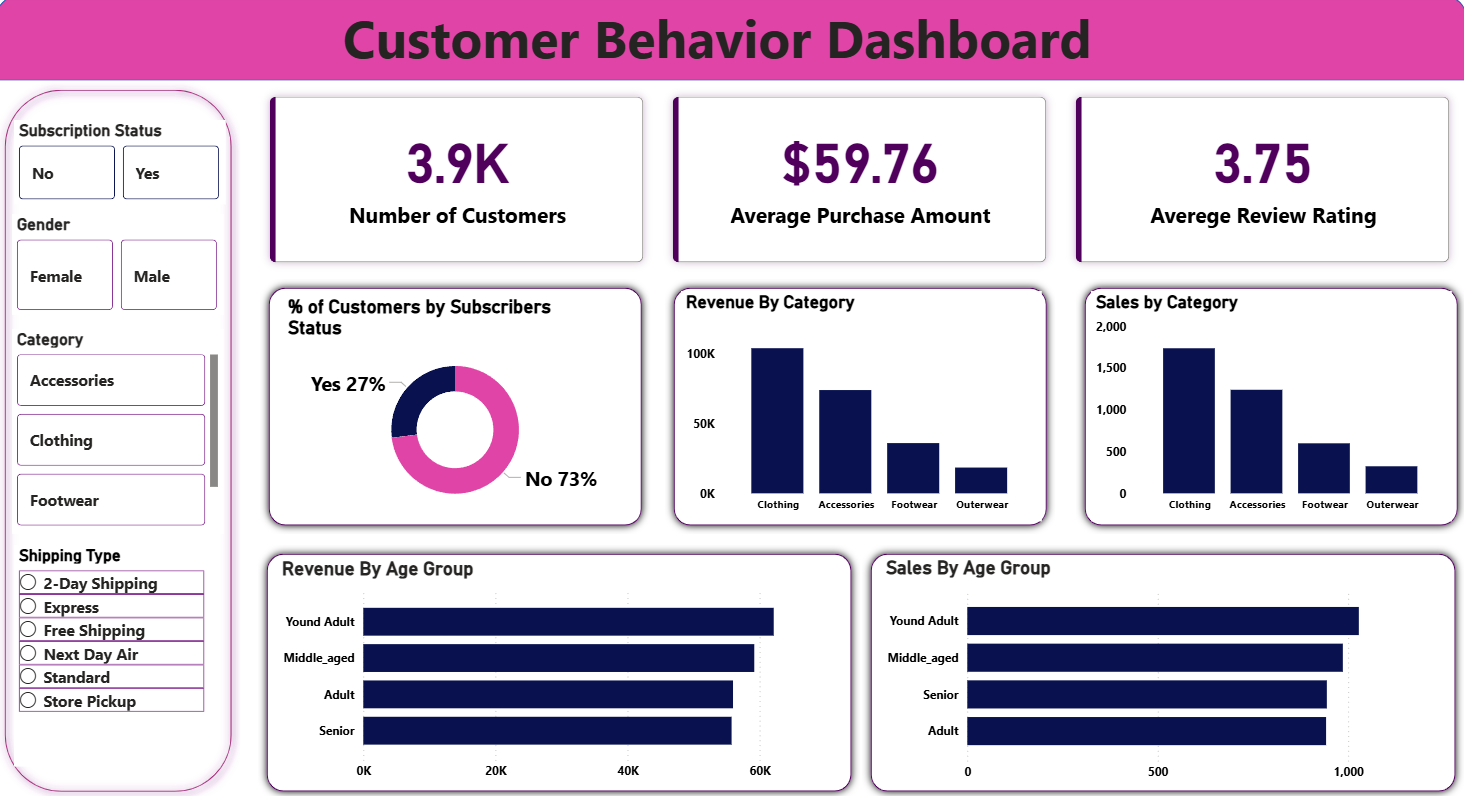

Layout of this report page (visuals, bound fields, positions):
{"tool":"powerbi","page":{"name":"Page 1","canvas":[1500,820],"ordinal":0},"visuals":[{"type":"cardVisual","fields":{"Data":["customer_db customers_cleaned.Number of Customers","customer_db customers_cleaned.Average Purchase Amount","customer_db customers_cleaned.Averege Review Rating"]},"box":[263.2,86.3,1236.7,201.9],"z":0},{"type":"shape","box":[0,0,1499.9,86.3],"z":1000},{"type":"textbox","box":[268.8,0,933.1,86.3],"z":2000},{"type":"shape","box":[268.8,288.3,398.3,260.4],"z":3000},{"type":"donutChart","title":"% of Customers by  Subscribers Status","fields":{"Category":["customer_db customers_cleaned.subscription_status"],"Y":["CountNonNull(customer_db customers_cleaned.customer_id)"]},"box":[292.5,305,351,227],"z":4000},{"type":"shape","box":[682.4,288.3,398.3,260.4],"z":5000},{"type":"shape","box":[1101.6,288.3,398.3,260.4],"z":6000},{"type":"clusteredColumnChart","title":"Revenue By Category","fields":{"Y":["Sum(customer_db customers_cleaned.purchase_amount)"],"Category":["customer_db customers_cleaned.category"]},"box":[699.1,300.8,367.7,235.4],"z":7000},{"type":"clusteredColumnChart","title":"Sales by Category","fields":{"Y":["CountNonNull(customer_db customers_cleaned.customer_id)"],"Category":["customer_db customers_cleaned.category"]},"box":[1116.9,300.8,367.7,235.4],"z":8000},{"type":"shape","box":[0,86.3,249.3,733.9],"z":9000},{"type":"advancedSlicerVisual","fields":{"Values":["customer_db customers_cleaned.subscription_status"]},"box":[18.1,126.7,215.9,86.3],"z":10000},{"type":"advancedSlicerVisual","fields":{"Values":["customer_db customers_cleaned.gender"]},"box":[16.7,222.8,215.9,103.1],"z":11000},{"type":"advancedSlicerVisual","fields":{"Values":["customer_db customers_cleaned.category"]},"box":[16.7,339.8,215.9,208.9],"z":12000},{"type":"listSlicer","fields":{"Values":["customer_db customers_cleaned.shipping_type"]},"box":[18.1,559.9,199.2,225.6],"z":13000},{"type":"shape","box":[267.4,559.9,614.2,260.4],"z":15000},{"type":"shape","box":[883,559.9,614.2,260.4],"z":16000},{"type":"clusteredBarChart","title":"Sales By Age Group","fields":{"Y":["CountNonNull(customer_db customers_cleaned.customer_id)"],"Category":["customer_db customers_cleaned.age_group"]},"box":[902.5,571,575.2,238.1],"z":17000},{"type":"clusteredBarChart","title":"Revenue By Age Group","fields":{"Y":["Sum(customer_db customers_cleaned.purchase_amount)"],"Category":["customer_db customers_cleaned.age_group"]},"box":[287,572.3,575.5,236.4],"z":17500}]}

Visuals, with their boxes in screenshot pixels (x1, y1, x2, y2), scaled from the page's 1500x820 canvas onto the 1464x796 screenshot:
cardVisual - customer_db customers_cleaned.Number of Customers x customer_db customers_cleaned.Average Purchase Amount: 257,84,1463,280
shape: 0,0,1463,84
textbox: 262,0,1173,84
shape: 262,280,651,533
"% of Customers by  Subscribers Status" donutChart: 285,296,628,516
shape: 666,280,1055,533
shape: 1075,280,1463,533
"Revenue By Category" clusteredColumnChart: 682,292,1041,521
"Sales by Category" clusteredColumnChart: 1090,292,1449,521
shape: 0,84,243,795
advancedSlicerVisual - customer_db customers_cleaned.subscription_status: 18,123,228,207
advancedSlicerVisual - customer_db customers_cleaned.gender: 16,216,227,316
advancedSlicerVisual - customer_db customers_cleaned.category: 16,330,227,533
listSlicer - customer_db customers_cleaned.shipping_type: 18,544,212,763
shape: 261,544,860,795
shape: 862,544,1461,795
"Sales By Age Group" clusteredBarChart: 881,554,1442,785
"Revenue By Age Group" clusteredBarChart: 280,556,842,785
